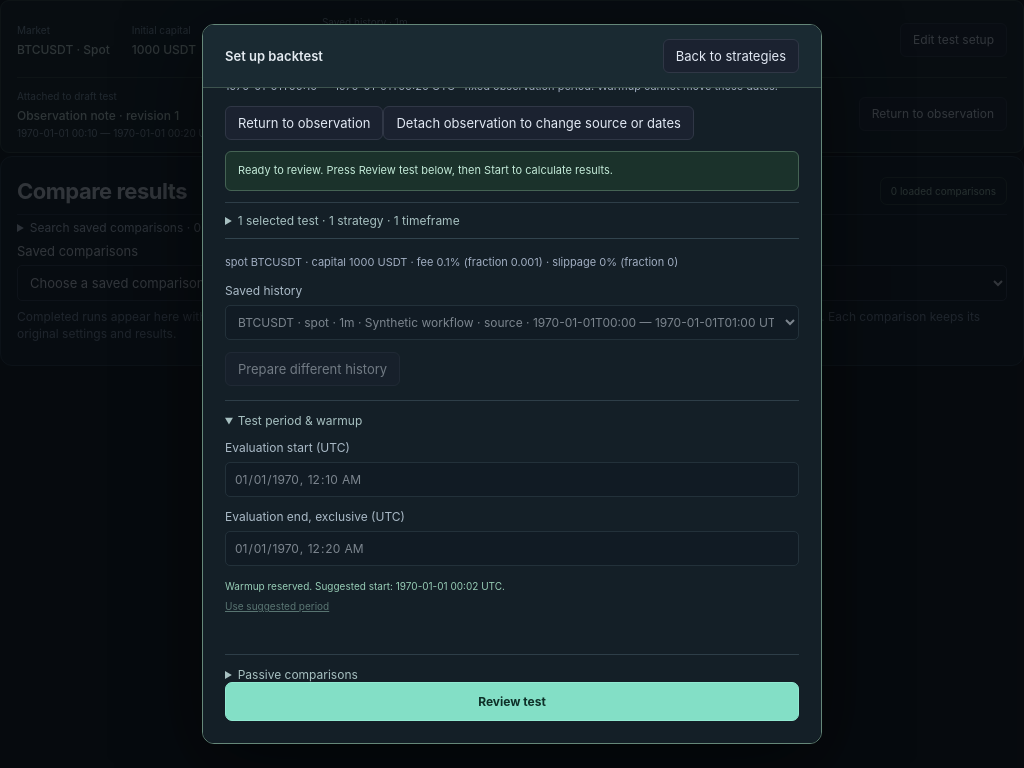
Test: sends revision-bound link only on explicit reviewed Start and retains context after admission failure
This screenshot has width=1024, height=768.
(page scrolled)
Step 1. Click the button "Review test" → {"x": 512, "y": 702}, box [225,682,799,721]
(page scrolled)
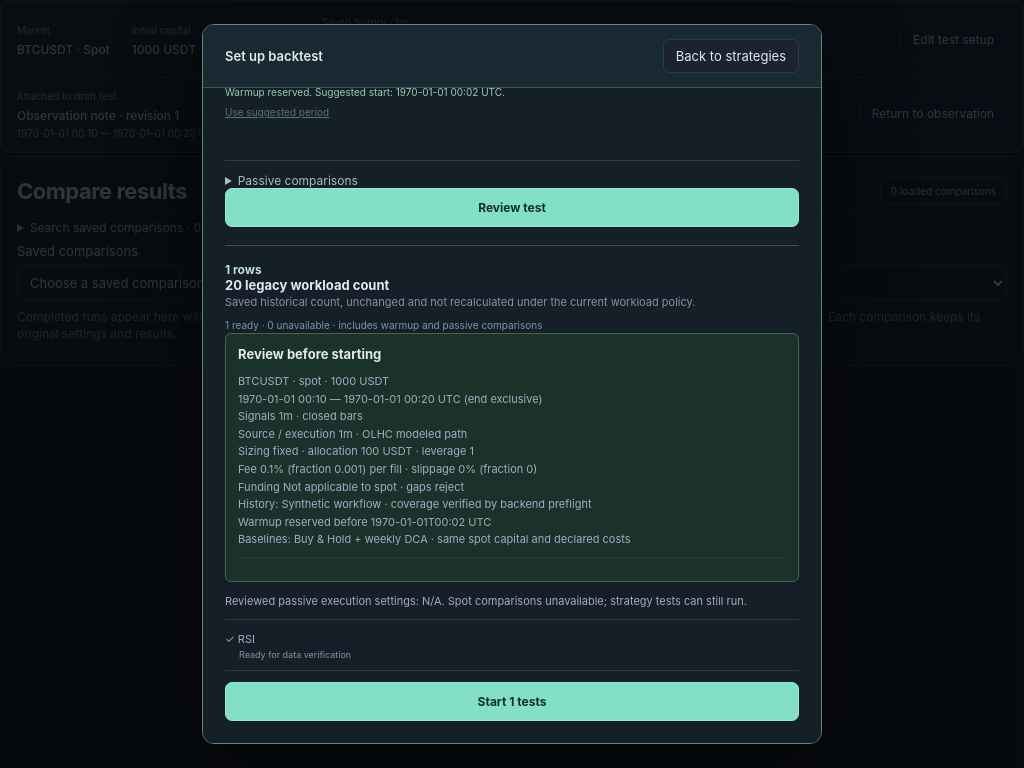
Step 2. Click the button "Start 1 tests" → {"x": 512, "y": 702}, box [225,682,799,722]
(page scrolled)
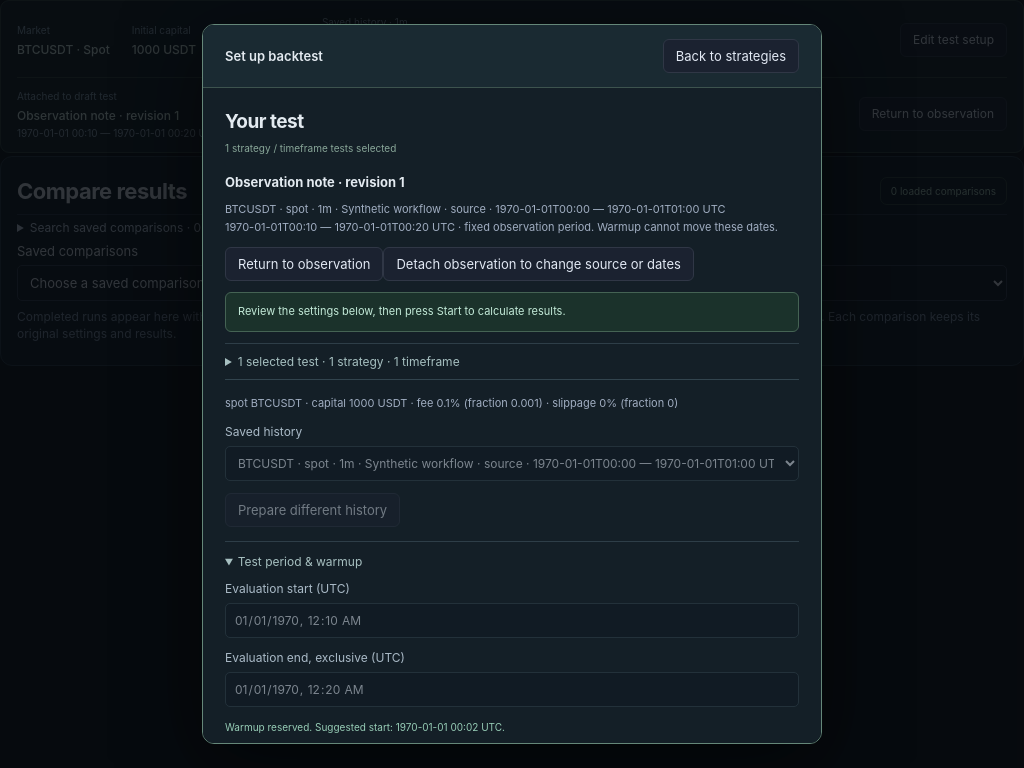
Expected: the element named "Observation test context" is shown, [225,174,799,281]
